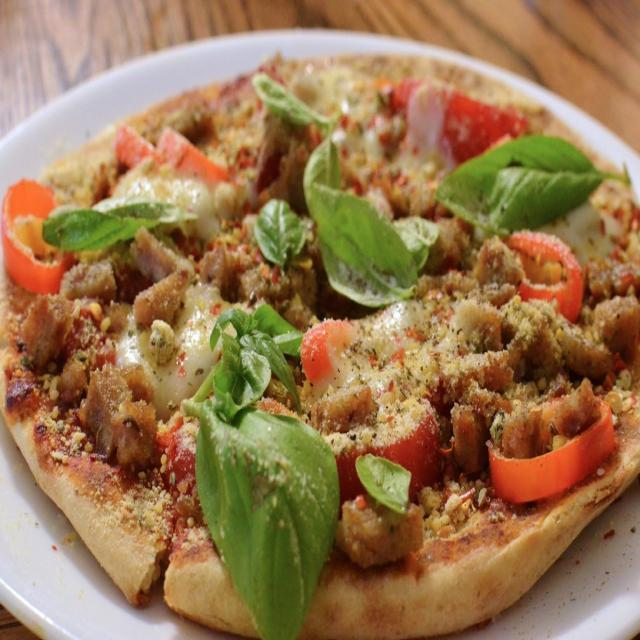Pizza: (0, 53, 640, 633)
